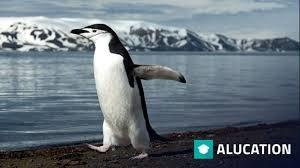chinstrap: (68, 19, 176, 162)
